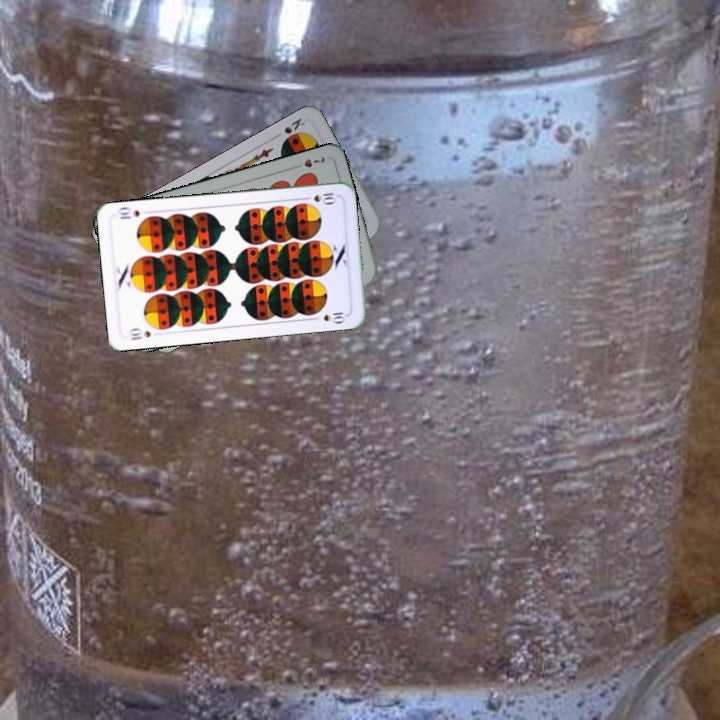H7: (289, 152, 327, 172)
S10: (299, 189, 339, 205), (125, 324, 153, 343)
SK: (280, 114, 307, 136)
